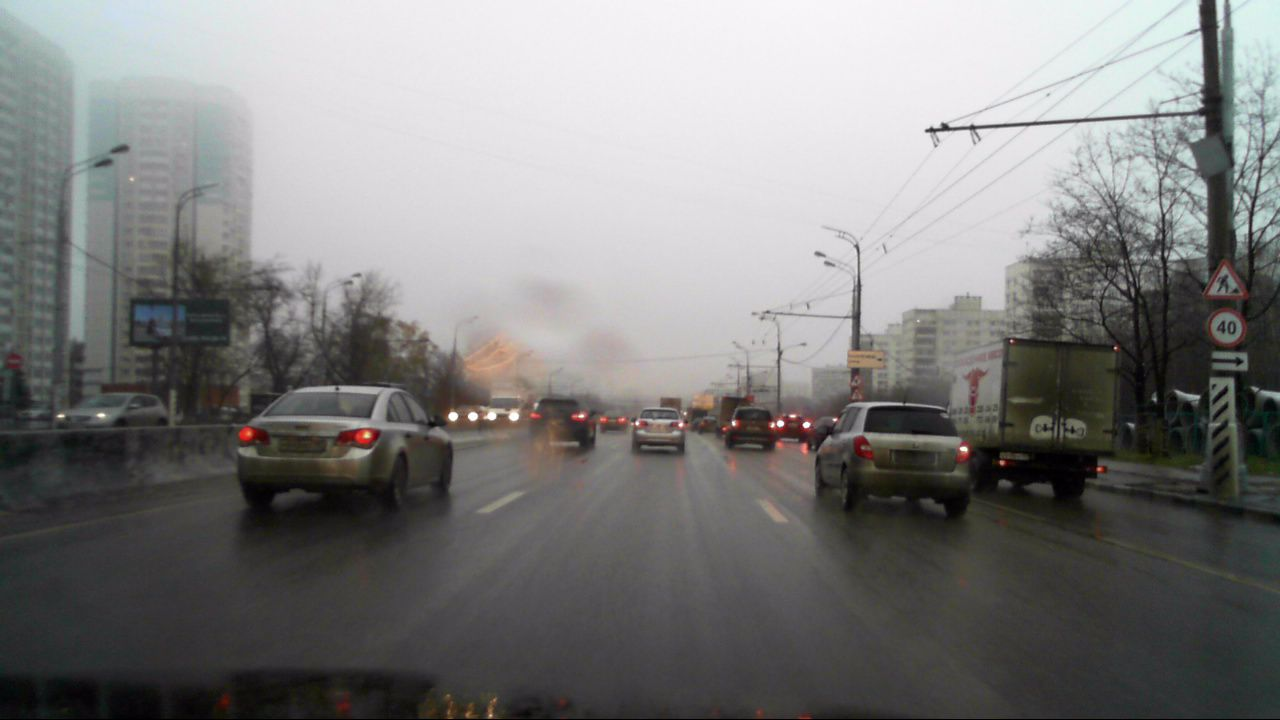speed_warning_40: (1206, 308, 1245, 346)
